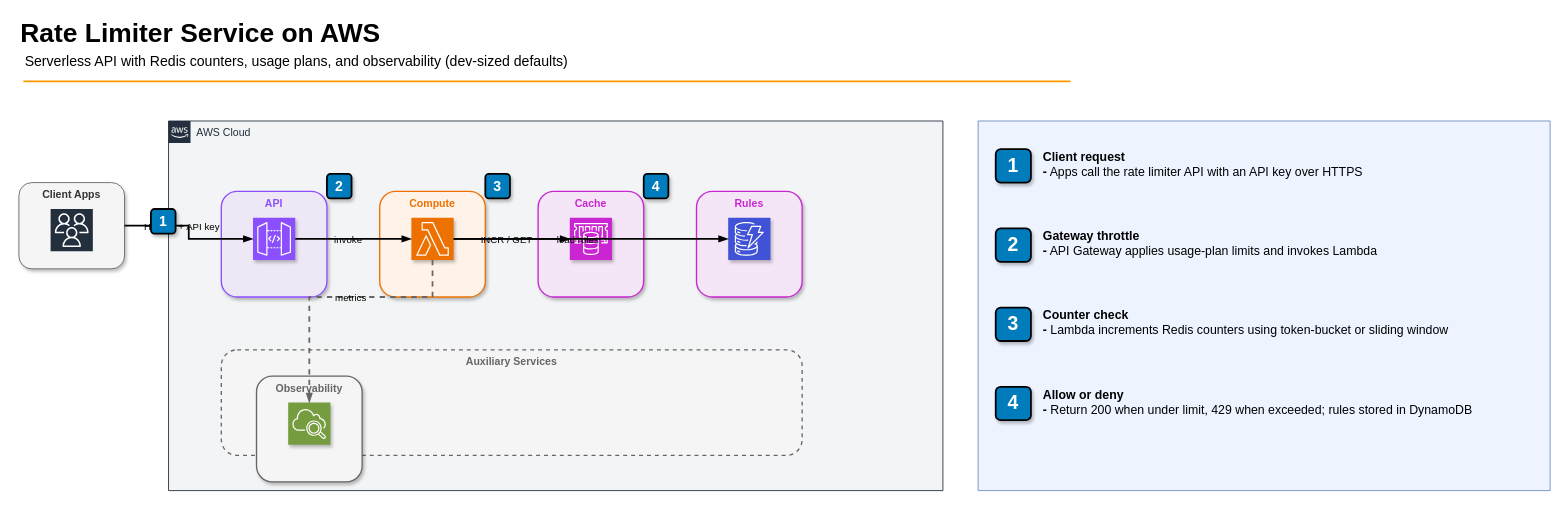
Image size: 1566x506. Some labels were removed from this diagram. The shapes that lost their labels are listed below. From the top down, each one's centre as x and y in pixels, then its label:
At (x=275, y=239): "API Gateway usage plans".
At (x=433, y=239): "Lambda check limit".
At (x=591, y=239): "ElastiCache Redis counters".
At (x=750, y=239): "DynamoDB limit rules".
At (x=310, y=424): "CloudWatch 429 metrics".
